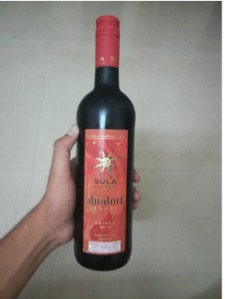glass_bottle: (67, 9, 142, 279)
